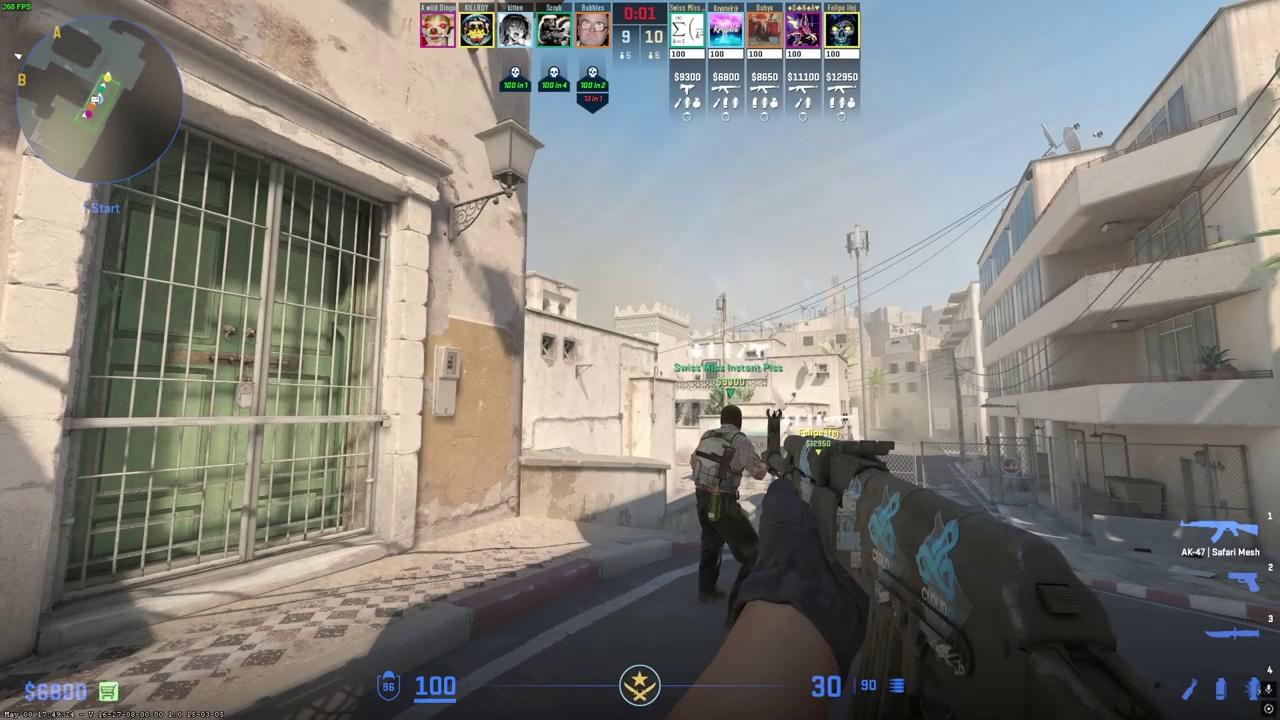Terrorist: (692, 404, 763, 609)
